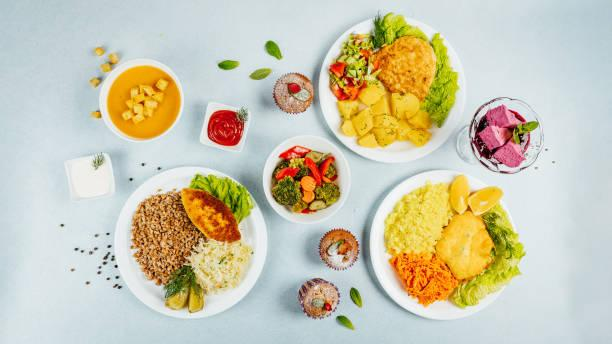Braised Crucian Carp: (367, 169, 523, 319), (114, 166, 266, 319), (316, 14, 466, 159), (262, 134, 351, 225), (99, 58, 182, 143)
